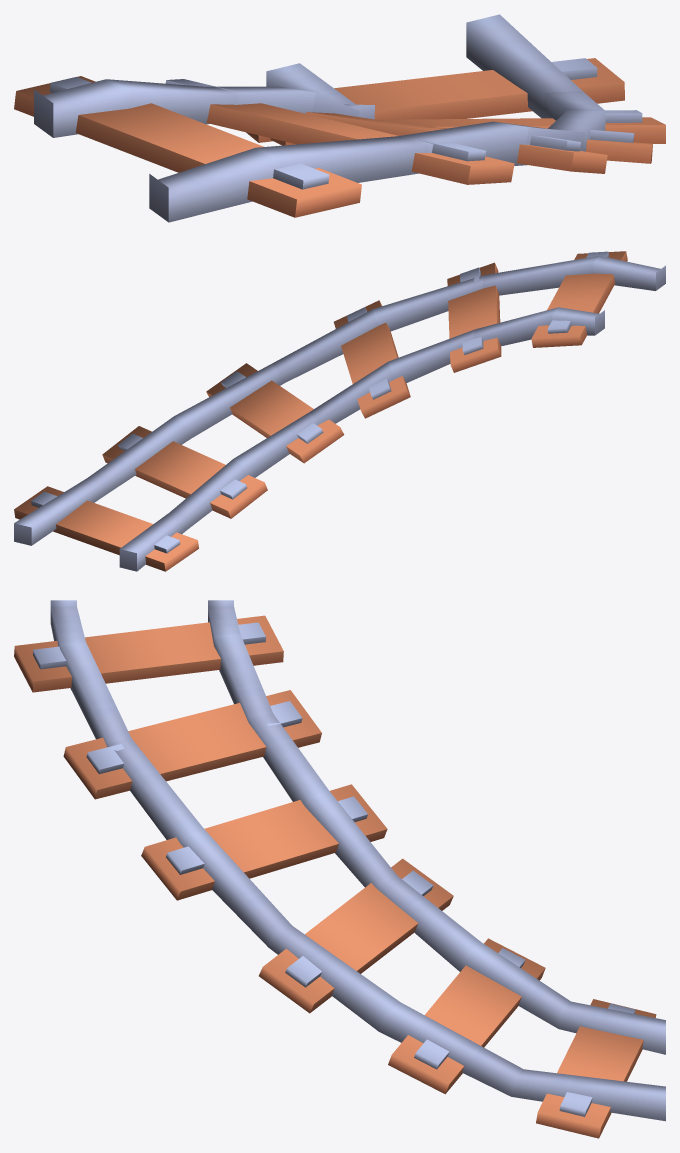
File: kenney-train-railroad-damaged-corner-small-ramp.glb
3 renders of one model, top to bottom at view 1: azimuth 30°, elevation 25°; view 2: azimuth 150°, elevation 25°; view 3: azimuth 270°, elevation 25°, orthographic. The views are drawn at different scales.
Visible parts, largest first — view 1: railroad-damaged-corner-small-ramp; view 2: railroad-damaged-corner-small-ramp; view 3: railroad-damaged-corner-small-ramp.
Part boxes in pixels (<box>): railroad-damaged-corner-small-ramp: <box>14,14,665,222</box>; railroad-damaged-corner-small-ramp: <box>14,251,665,571</box>; railroad-damaged-corner-small-ramp: <box>14,600,665,1138</box>.
Bounding box in the file's own units: 2.49 × 1.11 × 2.49.
Materials: 1 (1 with a texture image).
